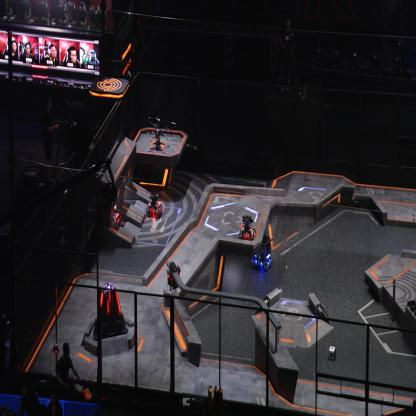car: (250, 236, 273, 274), (238, 214, 257, 241), (145, 191, 163, 218), (103, 202, 121, 229)
